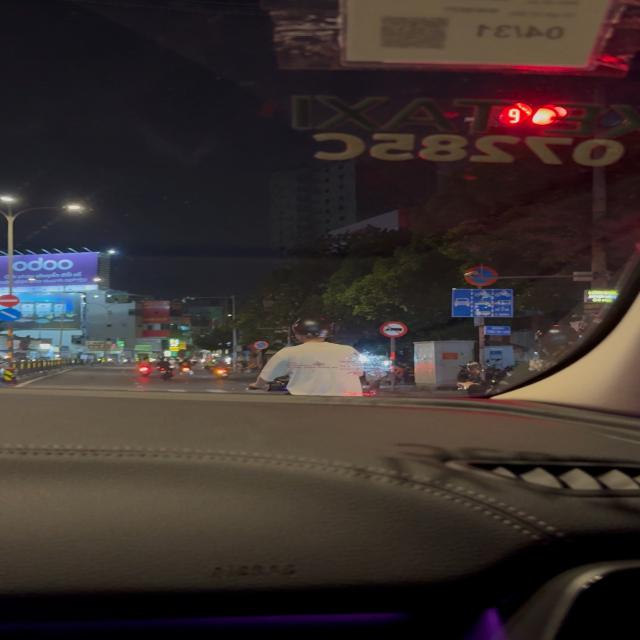Bien bao cam do xe: (253, 340, 270, 350)
Bien bao cam xe so-mi ro-mooc: (378, 319, 410, 338)
